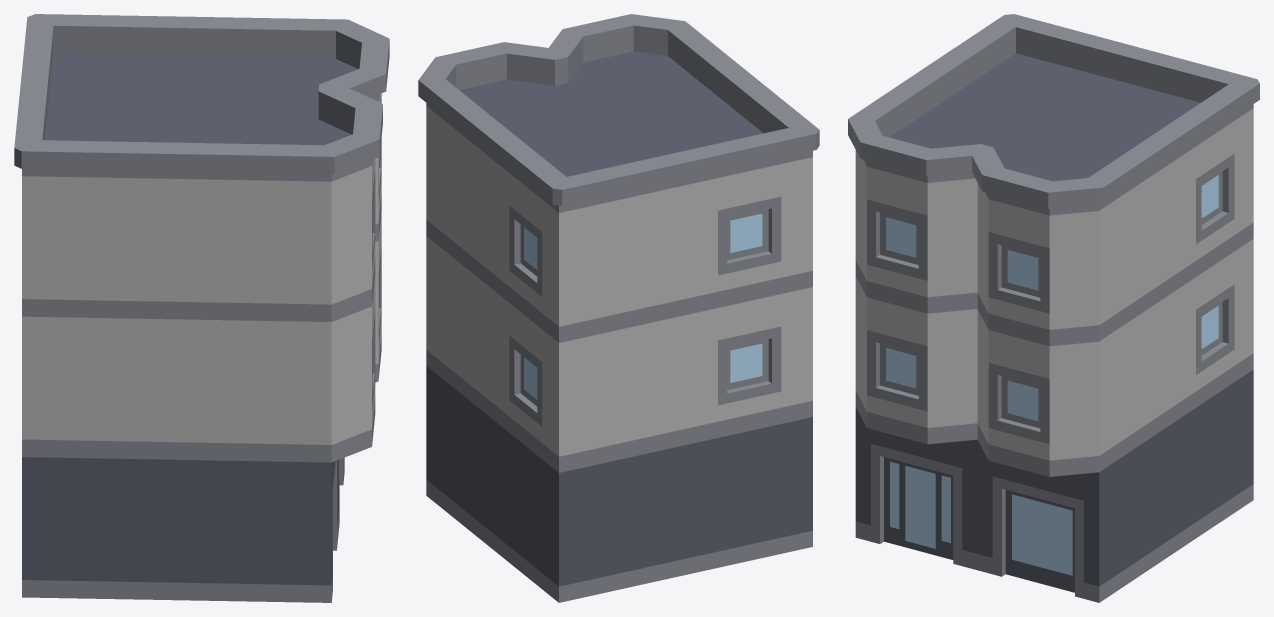
File: variant_33.fbx
3 views of the same model, side by side, from view 1: azimuth 30°, elevation 25°; view 2: azimuth 150°, elevation 25°; view 3: azimuth 270°, elevation 25° (orthographic). The views are drawn at different scales.
Visible parts, largest first — view 1: small_buildingA; view 2: small_buildingA; view 3: small_buildingA.
Boxes of the visible parts, left/top/right/bottom form: small_buildingA: left=14, top=14, right=389, bottom=602; small_buildingA: left=418, top=14, right=819, bottom=602; small_buildingA: left=848, top=14, right=1259, bottom=602.
Bounding box in the file's own units: 117 × 128 × 114.
